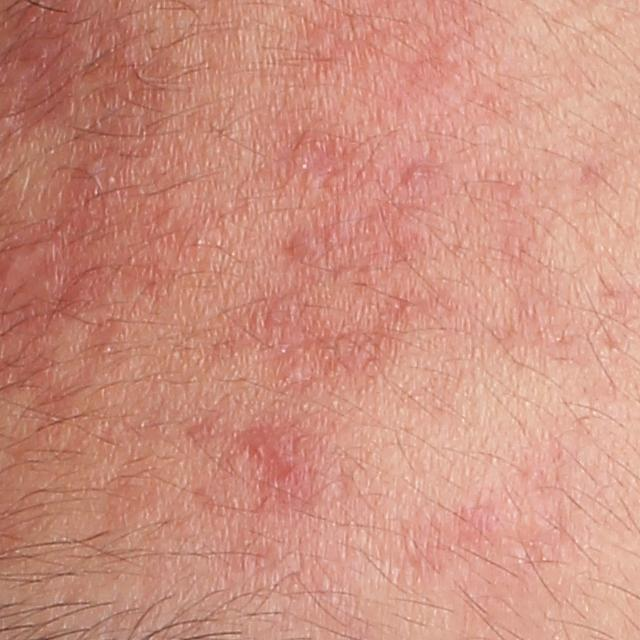papule: (256, 428, 309, 488), (402, 157, 435, 193)
